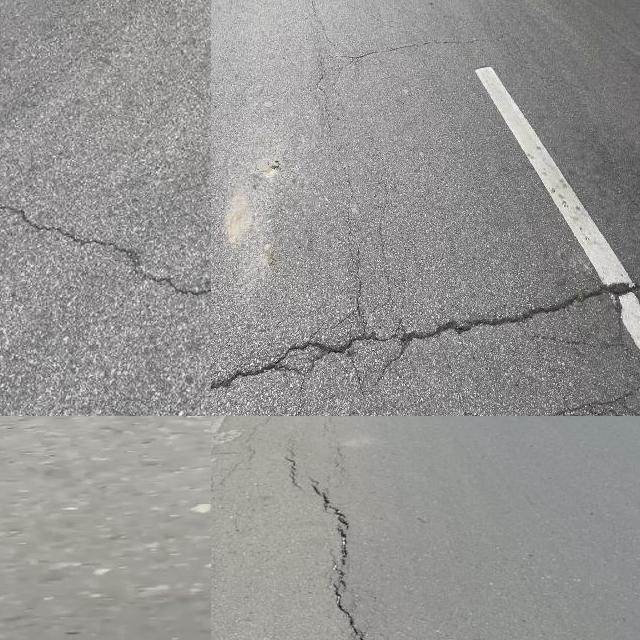Melintang: (211, 273, 640, 399), (0, 190, 211, 309)
Memanjang: (274, 441, 376, 640)
